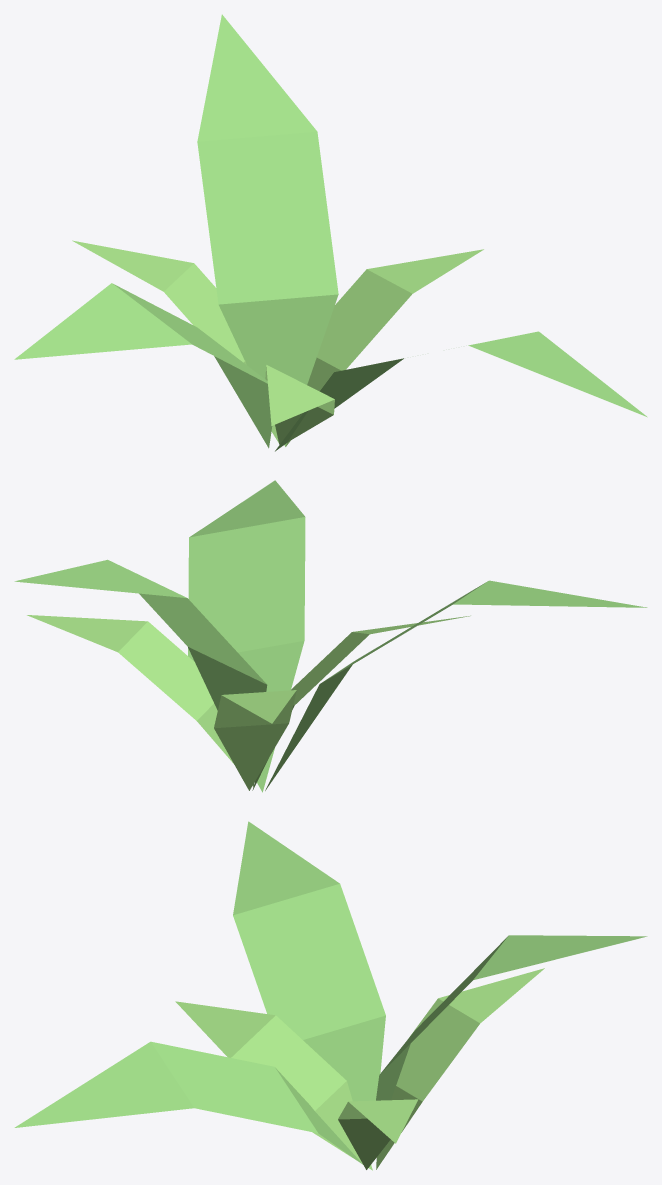
The model's file is Plant_b_TwoS_06.fbx.
3 renders of one model, top to bottom at view 1: azimuth 30°, elevation 25°; view 2: azimuth 150°, elevation 25°; view 3: azimuth 270°, elevation 25°, orthographic. The views are drawn at different scales.
Parts seen in each view (by area): view 1: Plant_b_TwoS_06; view 2: Plant_b_TwoS_06; view 3: Plant_b_TwoS_06.
Boxes of the visible parts, left/top/right/bottom form: Plant_b_TwoS_06: left=14, top=14, right=647, bottom=451; Plant_b_TwoS_06: left=14, top=480, right=647, bottom=792; Plant_b_TwoS_06: left=14, top=821, right=647, bottom=1170.
Size of the model in its own units: 72.7 by 38.06 by 78.99.
